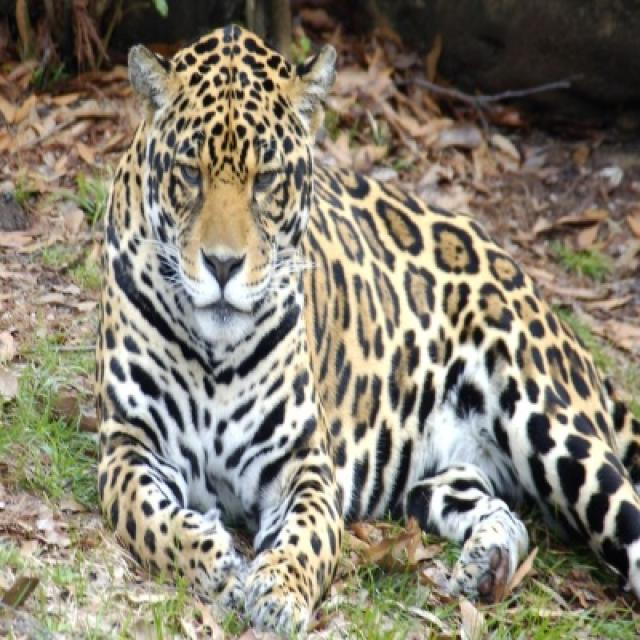Jaguar: (93, 22, 638, 638)
